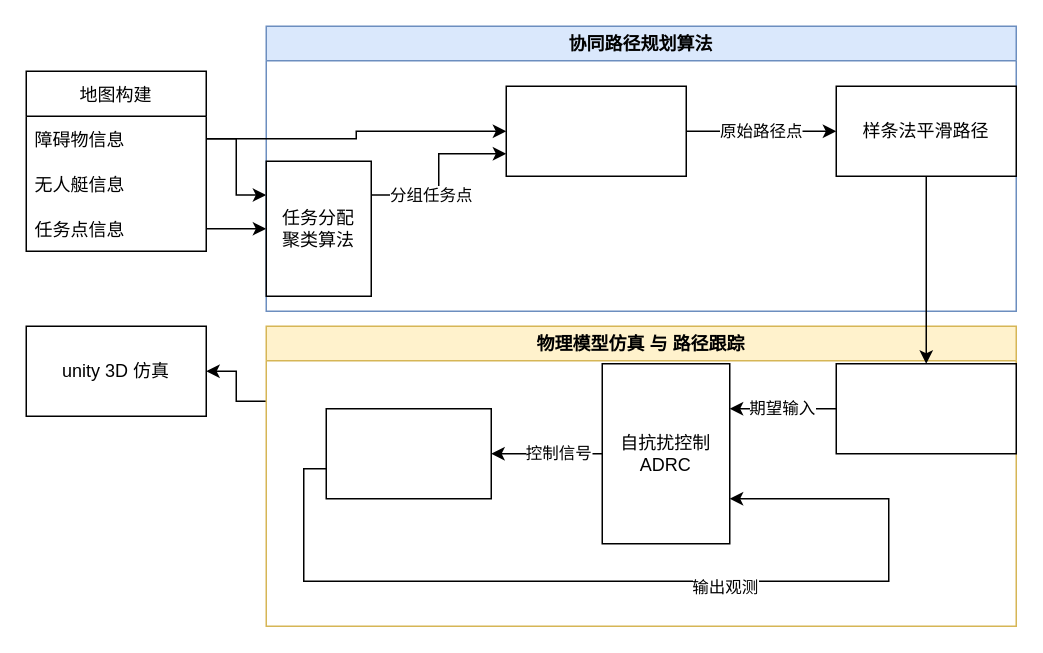
Some shapes in this 1043 by 653 pixel diagram are drawn without their labels. The shapes that lost their labels are listed below. From the top down, each one's centre as x and y in pixels, then its label:
At pixel 595 130: "SOM 路径规划".
At pixel 925 408: "路径跟踪算法".
At pixel 408 453: "无人艇物理模型".
